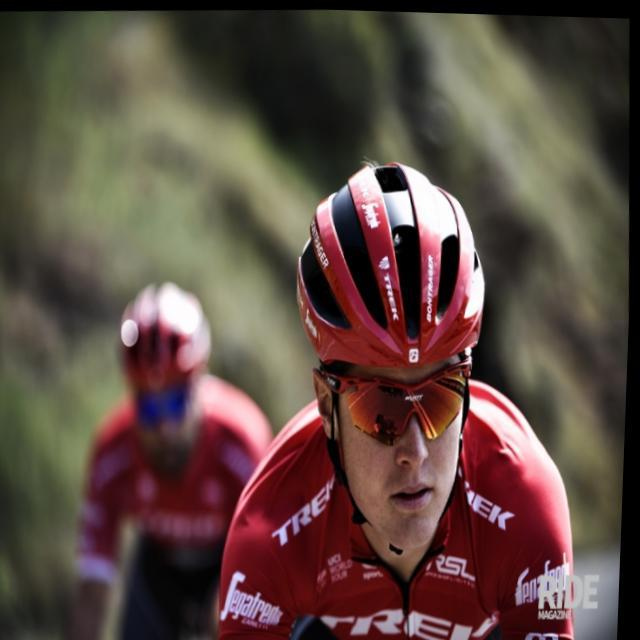Helmet: (288, 153, 487, 559)
